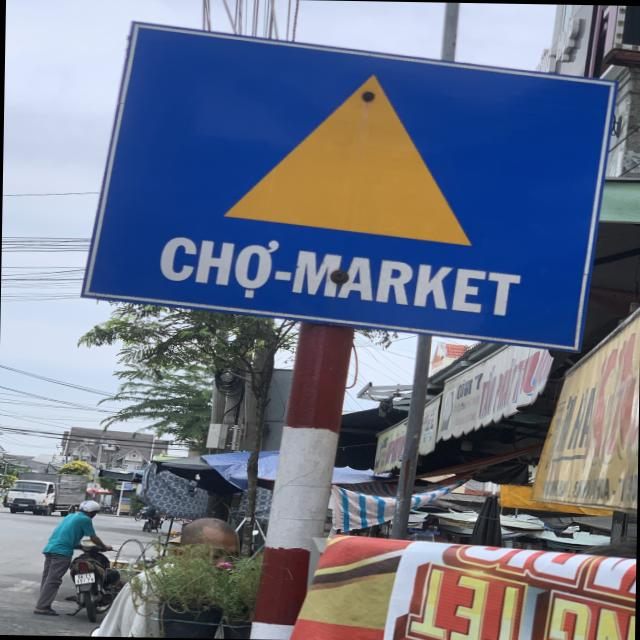Cho_Quay_Xe: (78, 14, 605, 344)
